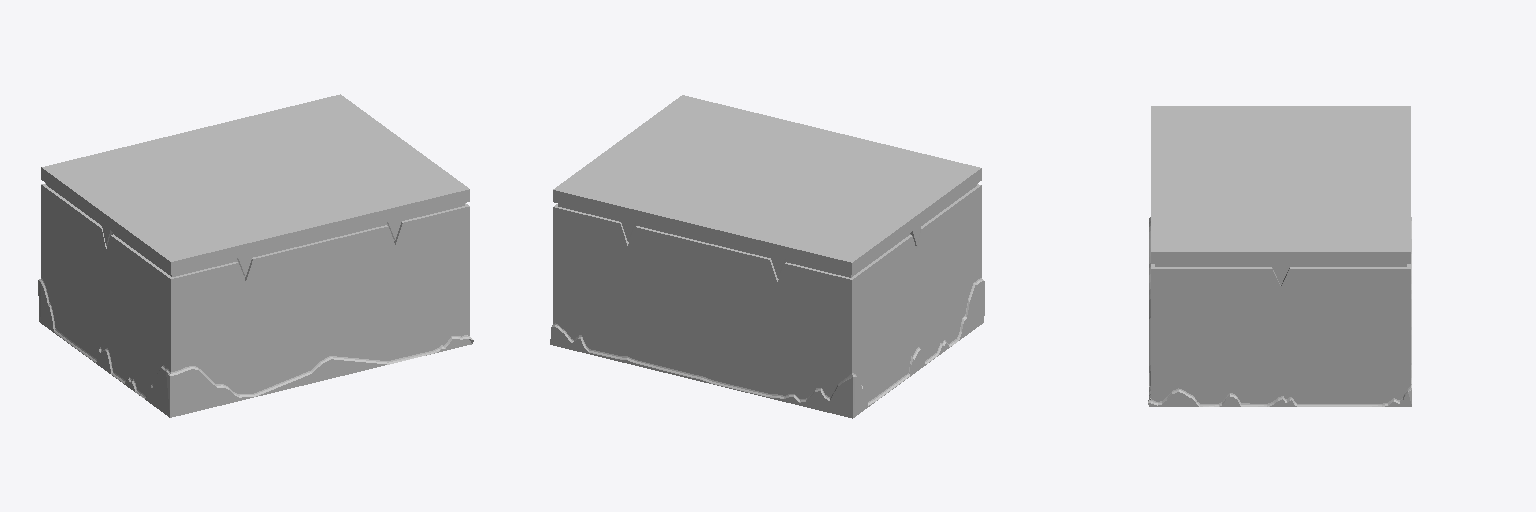
The model's file is Ammo_Drop.obj.
3 renders of one model, left to right at view 1: azimuth 30°, elevation 25°; view 2: azimuth 150°, elevation 25°; view 3: azimuth 270°, elevation 25°, orthographic.
Visible parts, largest first — view 1: HighPoly; view 2: HighPoly; view 3: HighPoly.
Boxes of the visible parts, x1=… form: HighPoly: x1=38, y1=94, x2=473, y2=417; HighPoly: x1=550, y1=95, x2=984, y2=418; HighPoly: x1=1148, y1=106, x2=1411, y2=406.
Bounding box in the file's own units: 41.02 × 20.01 × 31.05.